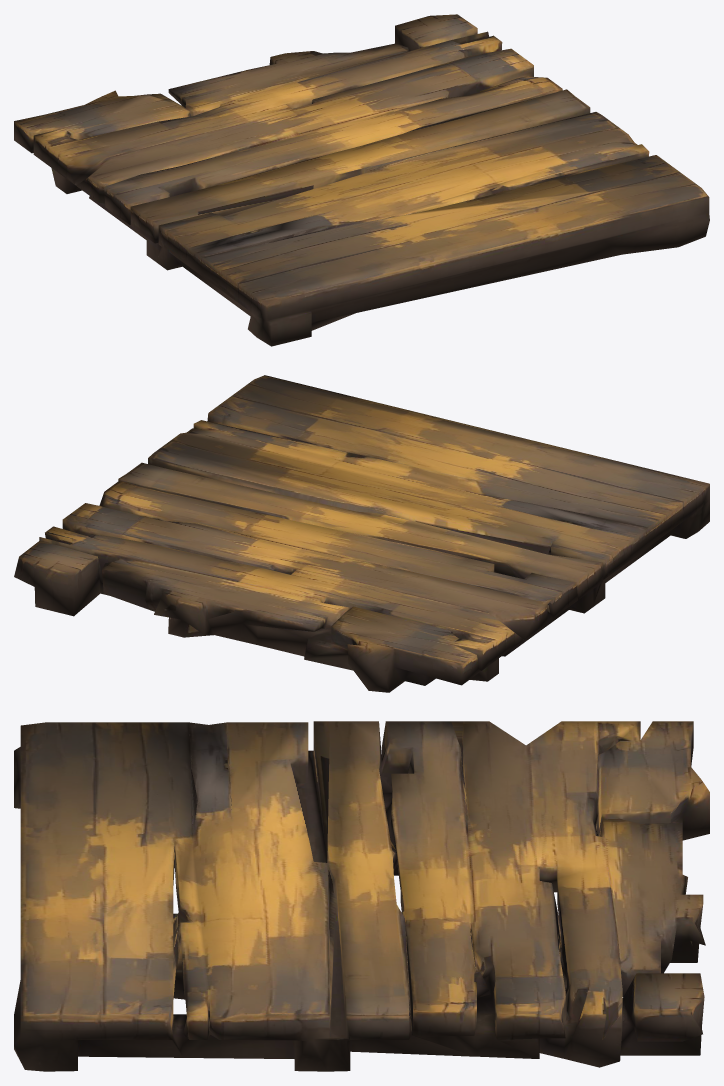
The model's file is tripo_convert_fada4e80-30c5-4f7a-8f75-088bfcbb541c.fbx.
3 views of the same model, one above another, from view 1: azimuth 30°, elevation 25°; view 2: azimuth 150°, elevation 25°; view 3: azimuth 270°, elevation 25° (orthographic). The views are drawn at different scales.
Visible parts, largest first — view 1: tripo_node_fada4e80; view 2: tripo_node_fada4e80; view 3: tripo_node_fada4e80.
Boxes of the visible parts, left/top/right/bottom form: tripo_node_fada4e80: left=14, top=14, right=709, bottom=346; tripo_node_fada4e80: left=14, top=375, right=709, bottom=692; tripo_node_fada4e80: left=14, top=721, right=709, bottom=1071.
Size of the model in its own units: 0.9756 by 0.0897 by 0.9756.
1 material, 1 textured.
